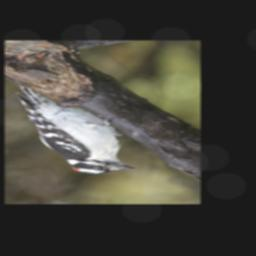Woodpecker: (16, 82, 137, 174)
